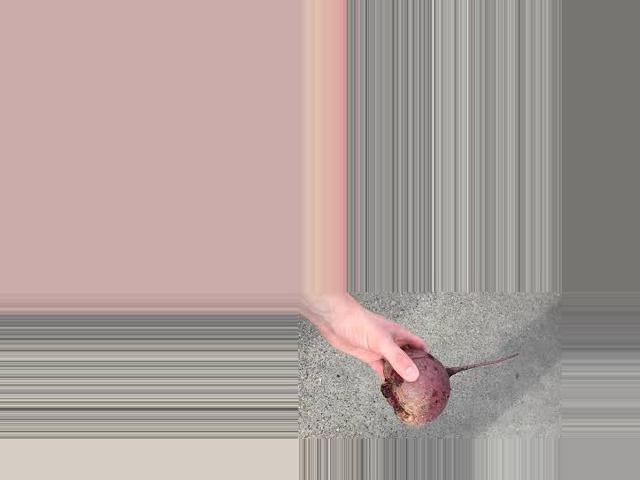beet: (380, 350, 517, 425)
